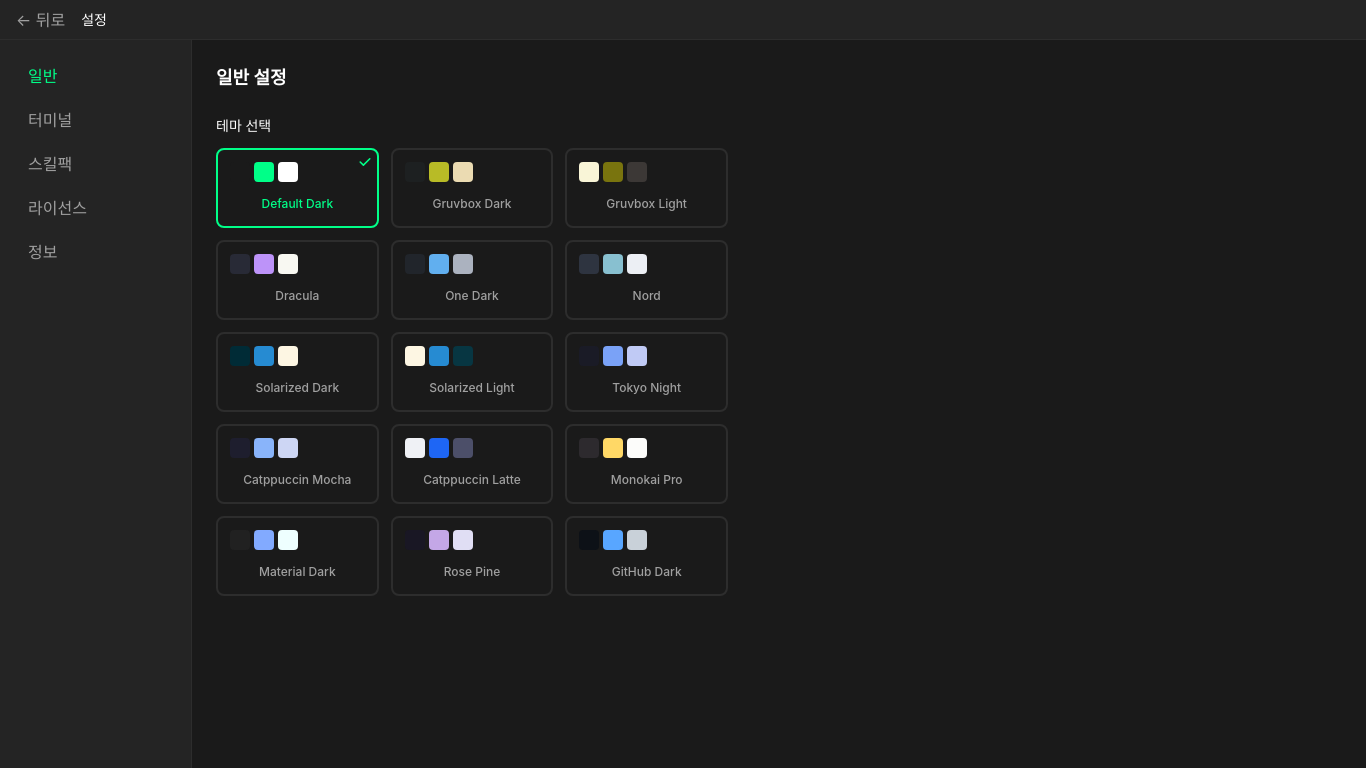
Scenario: SettingsPage › 7. 정보 (About) › should display app version
Click the button "정보". click: (96, 252)
box: left=16, top=232, right=175, bottom=272
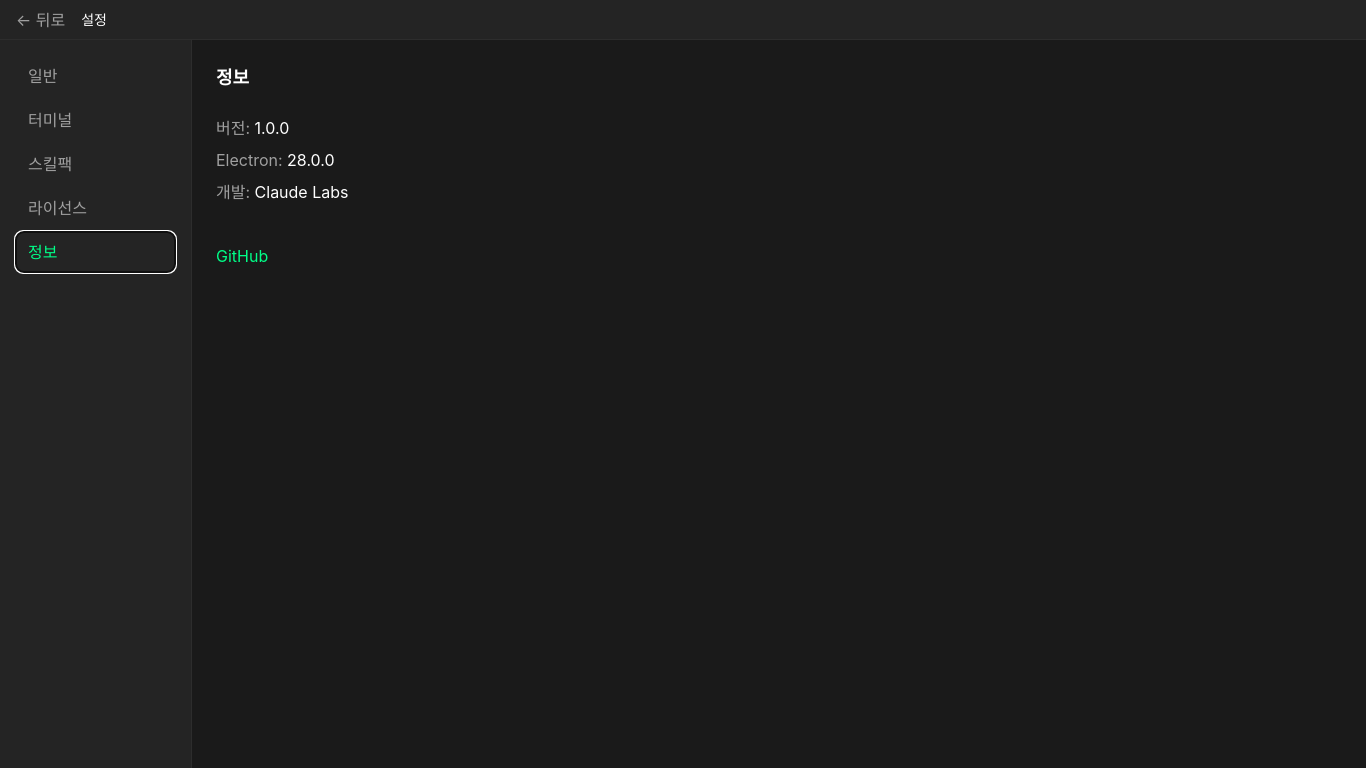
expect the text "버전:" is shown: met, box left=216, top=118, right=250, bottom=138
expect the text "버전: 1.0.0" is shown: met, box left=216, top=118, right=289, bottom=138
